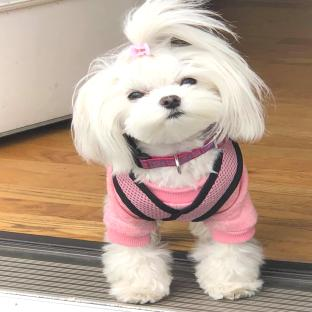Animal: (72, 0, 269, 303)
